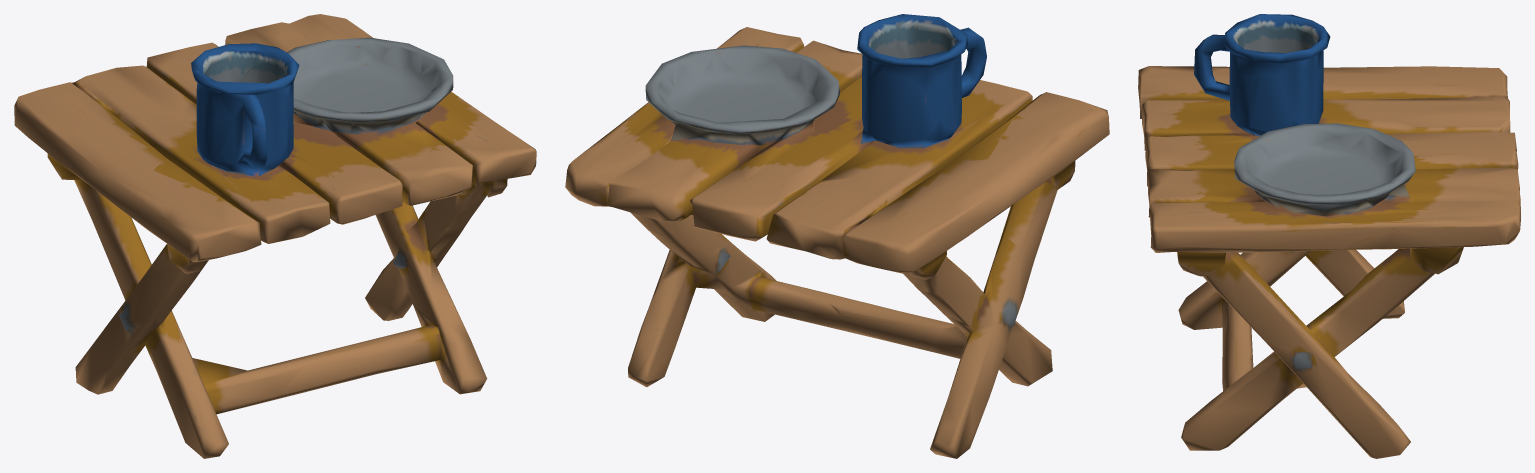
File: f-table.glb
3 views of the same model, side by side, from view 1: azimuth 30°, elevation 25°; view 2: azimuth 150°, elevation 25°; view 3: azimuth 270°, elevation 25° (orthographic). The views are drawn at different scales.
Visible parts, largest first — view 1: tripo_node_6b9614f6-c4a5-4b33-bf8a-6f02a545592b; view 2: tripo_node_6b9614f6-c4a5-4b33-bf8a-6f02a545592b; view 3: tripo_node_6b9614f6-c4a5-4b33-bf8a-6f02a545592b.
Part boxes in pixels (box(x1,y1,x2,y2)): tripo_node_6b9614f6-c4a5-4b33-bf8a-6f02a545592b: box(14, 14, 536, 458); tripo_node_6b9614f6-c4a5-4b33-bf8a-6f02a545592b: box(565, 14, 1109, 458); tripo_node_6b9614f6-c4a5-4b33-bf8a-6f02a545592b: box(1138, 14, 1520, 458).
Size of the model in its own units: 1 by 0.9232 by 0.9773.
Materials: 1 (1 with a texture image).
